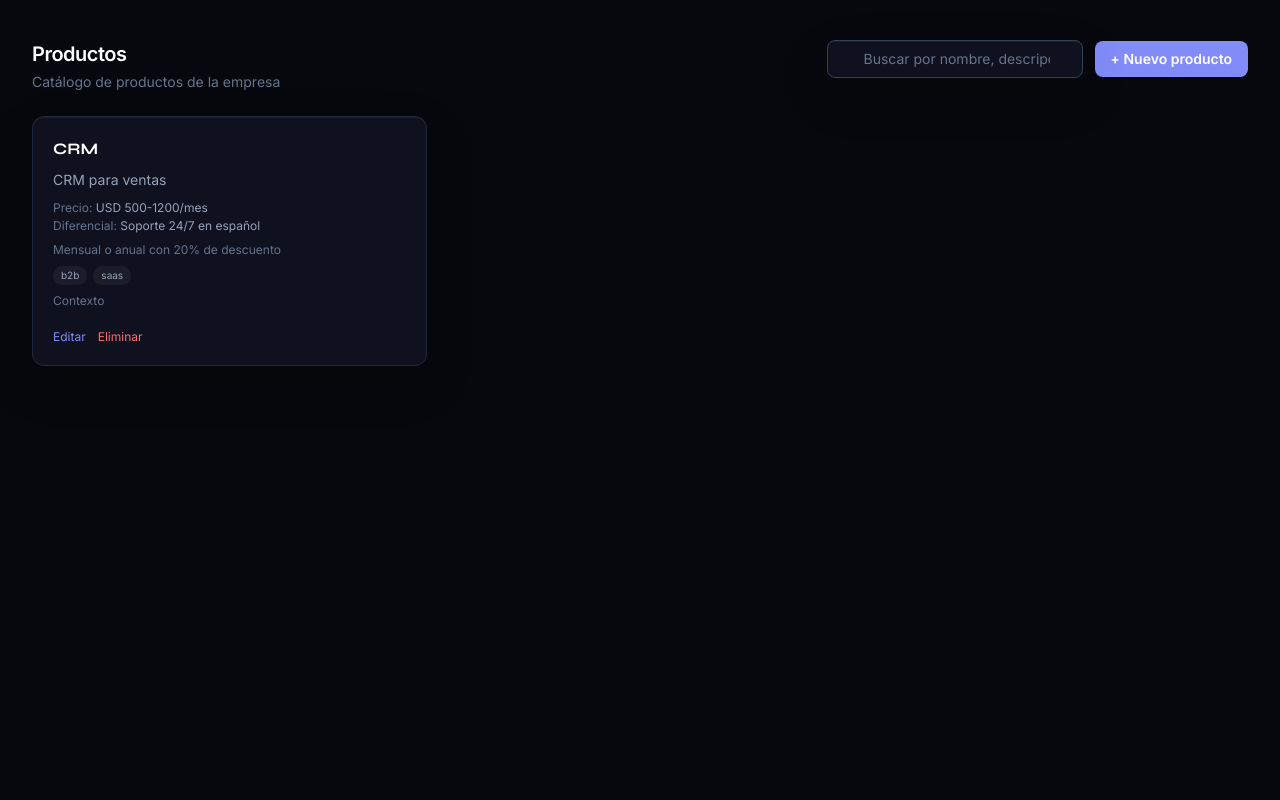
it: ProductsScreen › edit form pre-fills price range, key differentiator, payment info, and tags
The image size is (1280, 800).
Check: the heading "CRM" is shown, box x1=53 y1=139 x2=98 y2=158
Click the button "Editar": (69, 337) x1=53 y1=329 x2=86 y2=345
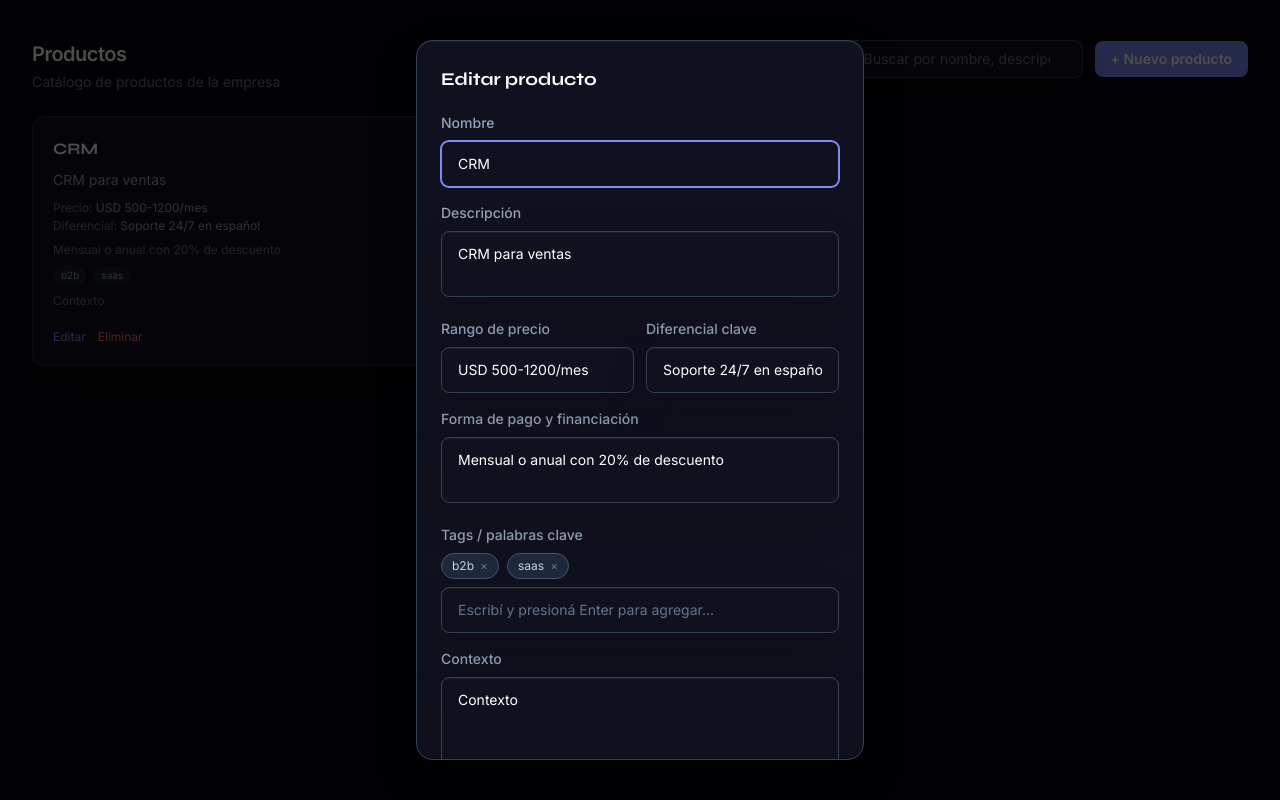
Check: the field showing "USD 500-1200/mes" below "Rango de precio" is shown, box x1=441 y1=347 x2=634 y2=393
Check: the field showing "Soporte 24/7 en español" below "Diferencial clave" is shown, box x1=646 y1=347 x2=839 y2=393
Check: the 2nd text box showing "Mensual o anual con 20% de descuento" is shown, box x1=441 y1=437 x2=839 y2=503
